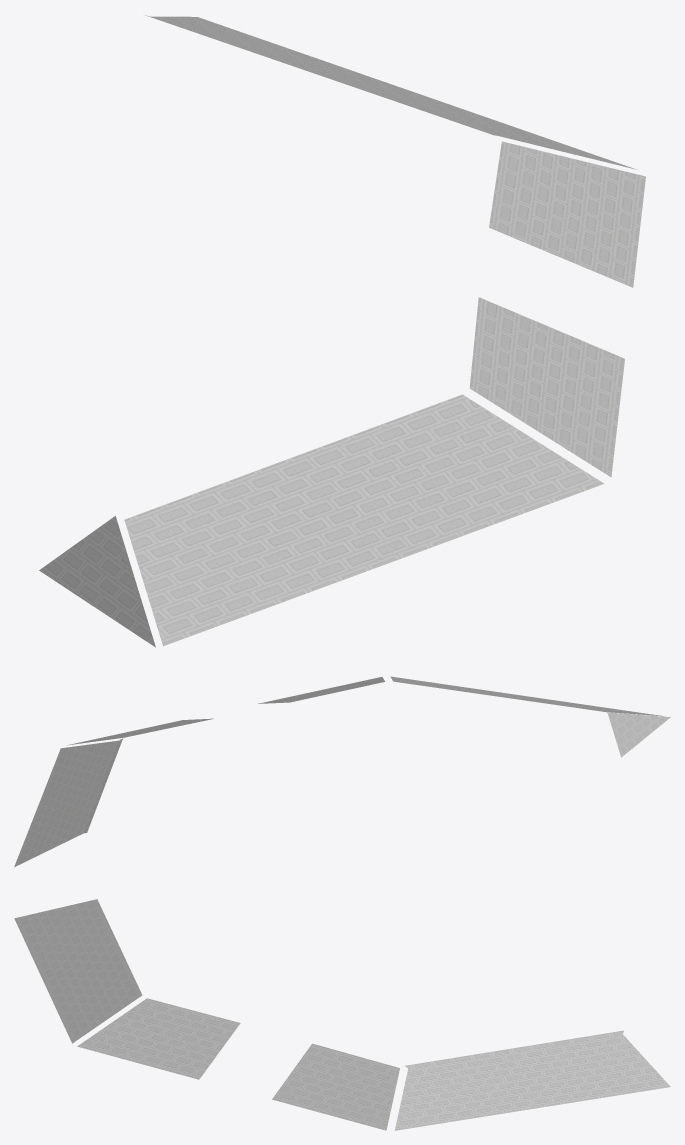
Rendered from kd_stage_1363c5_11_6.glb.
The picture shows the model from 3 angles, top to bottom: view 1: azimuth 30°, elevation 25°; view 2: azimuth 150°, elevation 25°; view 3: azimuth 270°, elevation 25°; orthographic projection. The views are drawn at different scales.
Visible parts, largest first — view 1: kd_stage_1363c5_11_6; view 2: kd_stage_1363c5_11_6; view 3: kd_stage_1363c5_11_6.
Boxes of the visible parts, box(x1,y1,x2,y2) form: kd_stage_1363c5_11_6: box(39, 15, 645, 647); kd_stage_1363c5_11_6: box(14, 676, 670, 867); kd_stage_1363c5_11_6: box(14, 899, 670, 1130).
Bounding box in the file's own units: 33.7 × 2.27 × 43.17.
Materials: 1 (1 with a texture image).
